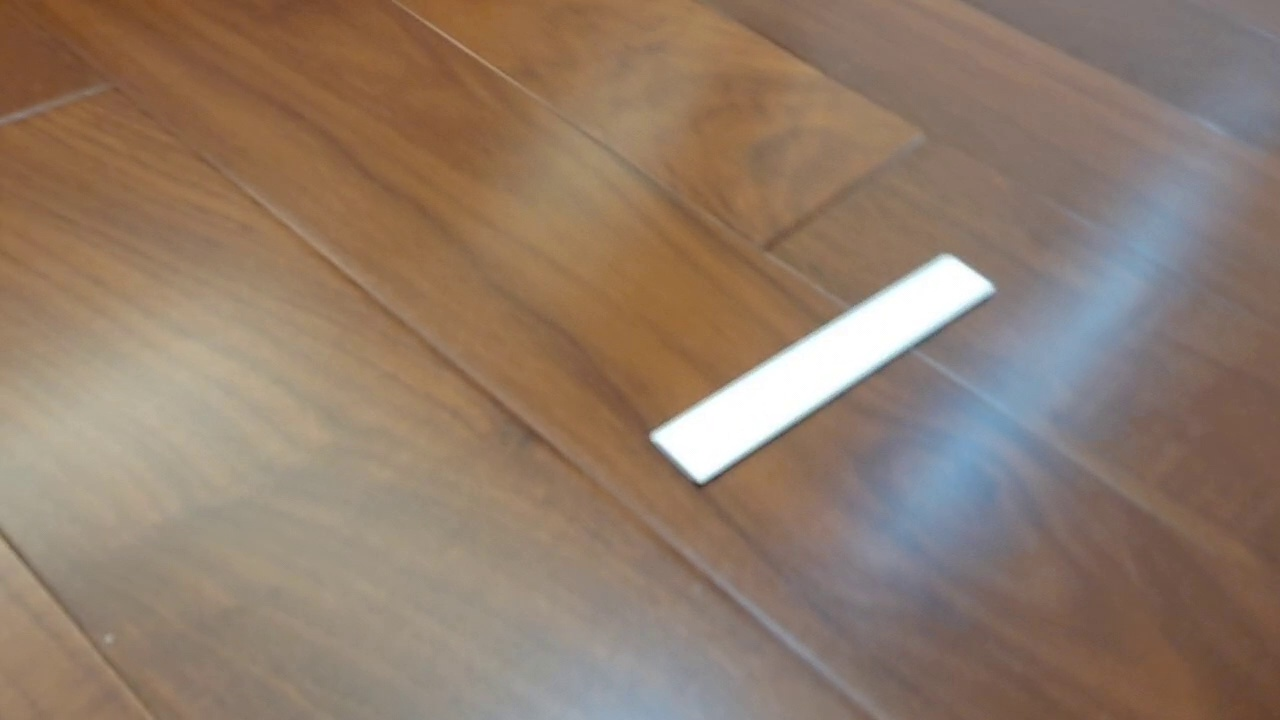ruler: (646, 250, 997, 490)
